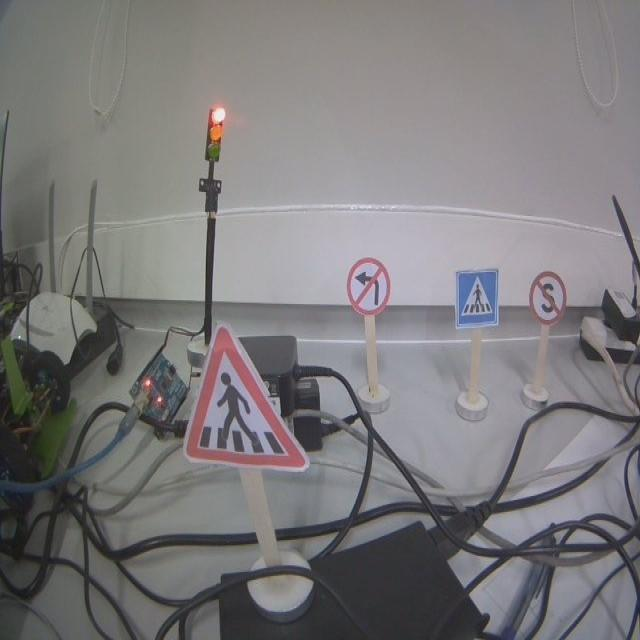Dilarang Belok Kiri: (346, 257, 390, 316)
Lampu Merah: (204, 105, 224, 159)
Rambu Berhenti: (530, 272, 567, 323)
Rambu Penyebrangan: (186, 328, 307, 465), (455, 268, 499, 328)
